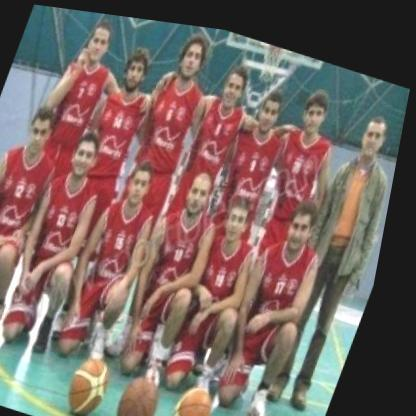basketball: (73, 346, 131, 416), (120, 361, 181, 416), (176, 371, 236, 416)
